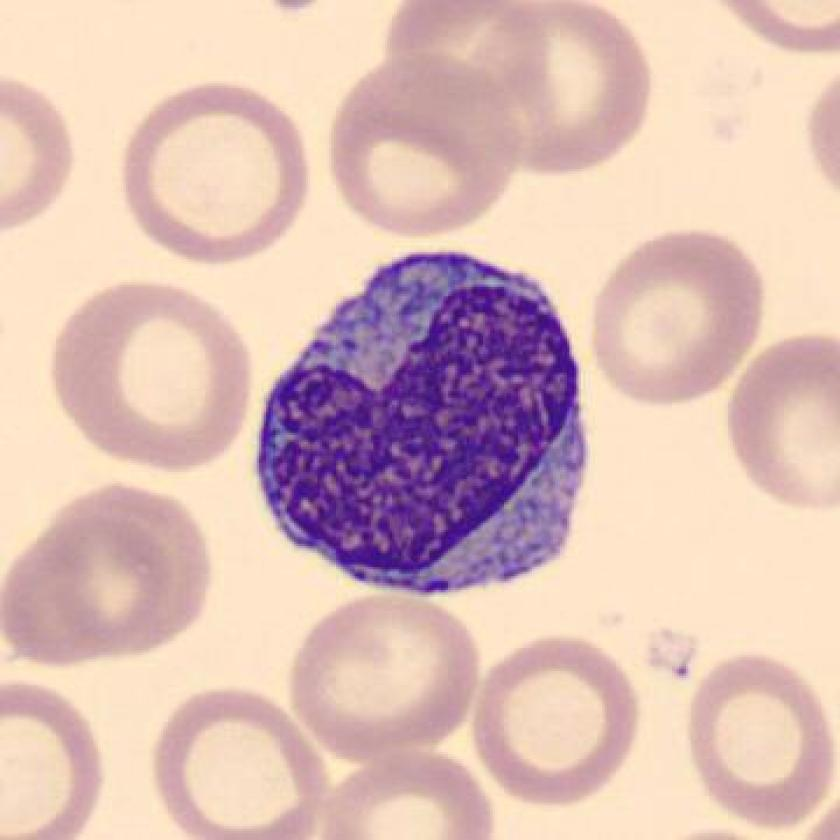monocyte: (237, 218, 605, 619)
